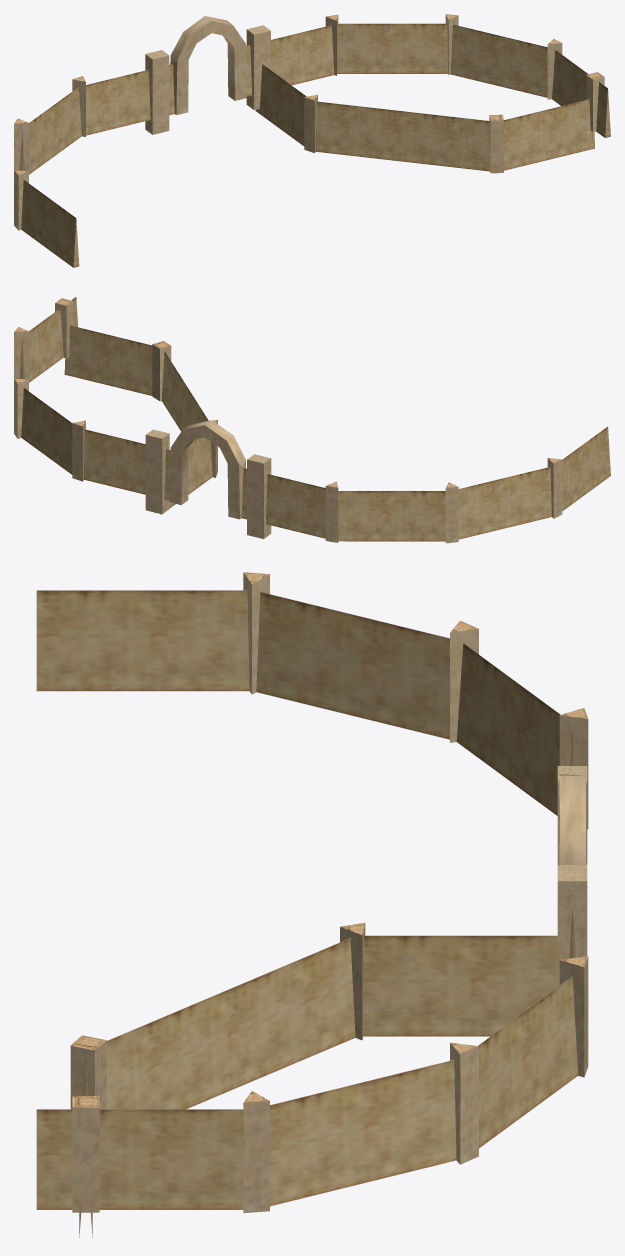
The model's file is poi_tato_corral_half_64x64_s02_l1.fbx.
The picture shows the model from 3 angles, top to bottom: view 1: azimuth 30°, elevation 25°; view 2: azimuth 150°, elevation 25°; view 3: azimuth 270°, elevation 25°; orthographic projection. The views are drawn at different scales.
Visible parts, largest first — view 1: mesh_node; view 2: mesh_node; view 3: mesh_node.
Part boxes in pixels (left/top/right/bottom): mesh_node: left=14, top=14, right=610, bottom=267; mesh_node: left=14, top=297, right=610, bottom=543; mesh_node: left=36, top=572, right=588, bottom=1237.
Bounding box in the file's own units: 46.43 × 8.5 × 20.4.
